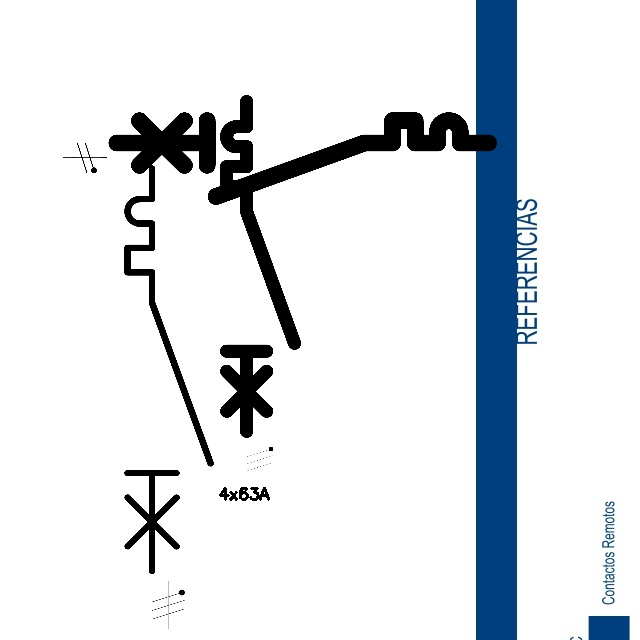interruptor_termomagnetico: (117, 158, 220, 581), (107, 111, 498, 206), (218, 93, 303, 440)
